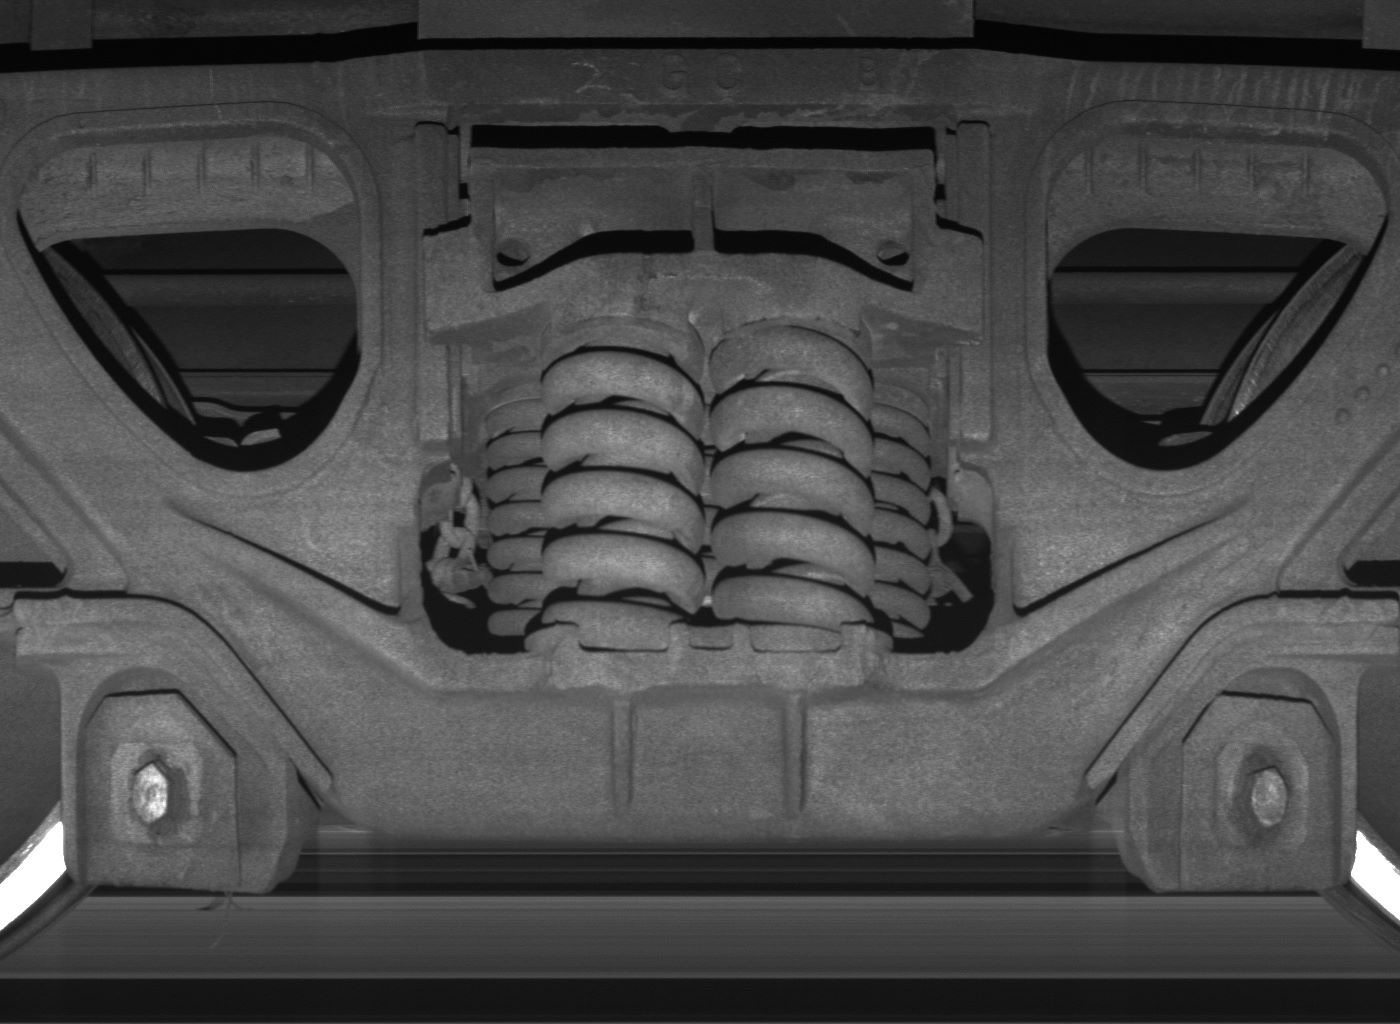normal: (59, 667, 287, 894), (1129, 669, 1357, 892)
